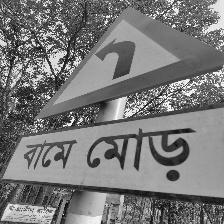Left-Turn: (3, 4, 224, 204)
